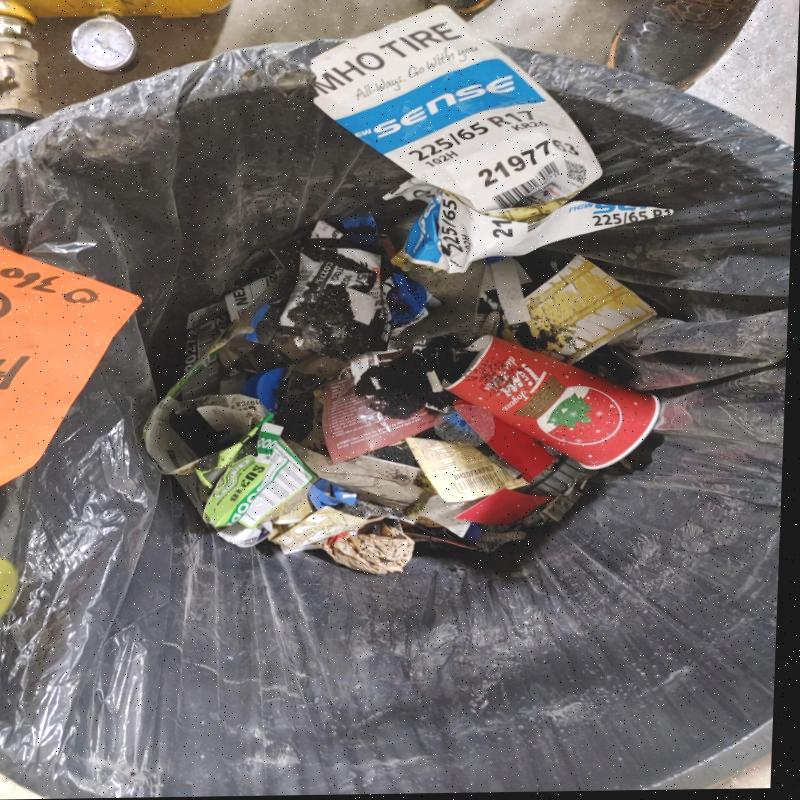cardboard: (142, 341, 386, 555), (446, 337, 661, 471)
paper: (311, 5, 676, 274), (0, 247, 143, 489), (405, 437, 530, 504), (316, 519, 415, 575), (453, 488, 554, 525)
